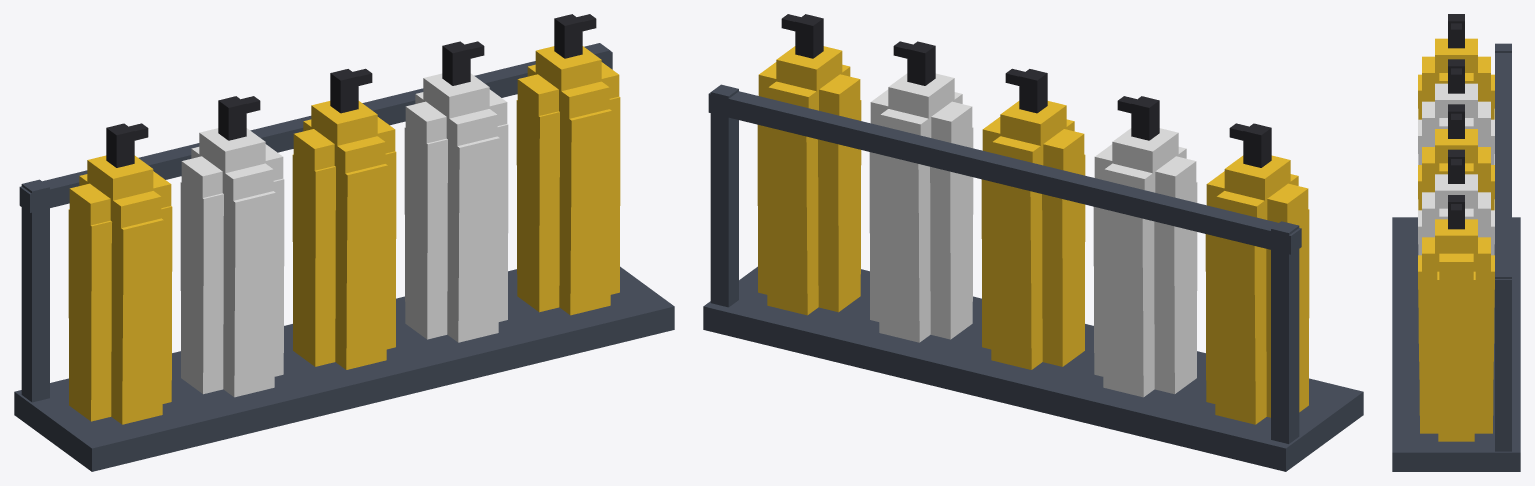
Rendered from AIR_RACK.glb.
3 renders of one model, left to right at view 1: azimuth 30°, elevation 25°; view 2: azimuth 150°, elevation 25°; view 3: azimuth 270°, elevation 25°, orthographic. The views are drawn at different scales.
Visible parts, largest first — view 1: AIR_RACK_Main, AIR_RACK_Tip, AIR_RACK_Stem, AIR_RACK_Accent; view 2: AIR_RACK_Main, AIR_RACK_Stem, AIR_RACK_Tip, AIR_RACK_Accent; view 3: AIR_RACK_Main, AIR_RACK_Stem, AIR_RACK_Tip, AIR_RACK_Accent.
Boxes of the visible parts, box(x1,y1,x2,y2) form: AIR_RACK_Main: box(68, 46, 620, 424); AIR_RACK_Tip: box(180, 73, 508, 397); AIR_RACK_Stem: box(14, 43, 674, 471); AIR_RACK_Accent: box(106, 14, 596, 167); AIR_RACK_Main: box(757, 46, 1309, 424); AIR_RACK_Stem: box(703, 84, 1363, 471); AIR_RACK_Tip: box(869, 73, 1197, 397); AIR_RACK_Accent: box(781, 14, 1271, 167); AIR_RACK_Main: box(1418, 38, 1494, 441); AIR_RACK_Stem: box(1392, 43, 1520, 471); AIR_RACK_Tip: box(1418, 83, 1494, 255); AIR_RACK_Accent: box(1448, 14, 1464, 229).
Size of the model in its own units: 2.6 by 1.27 by 0.6.
